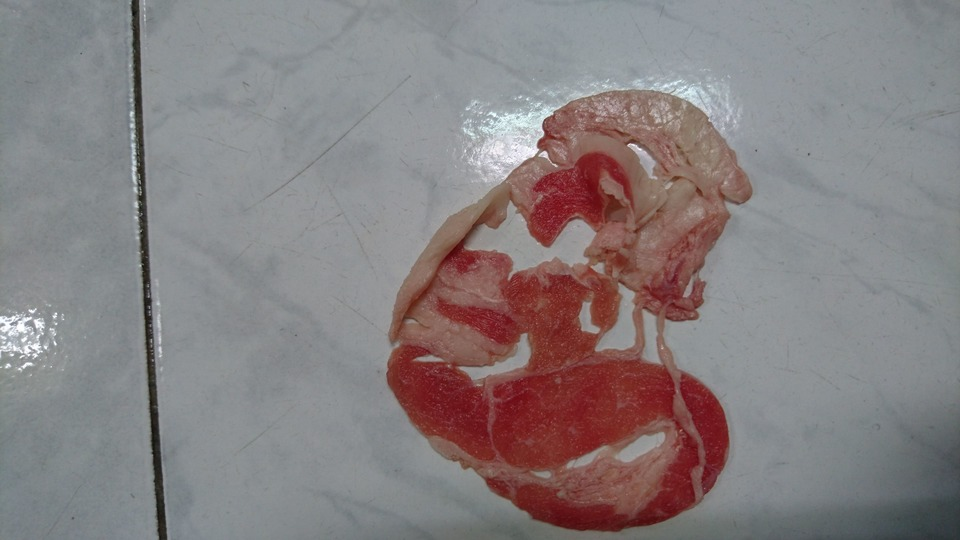restructured meat: (391, 92, 742, 535)
